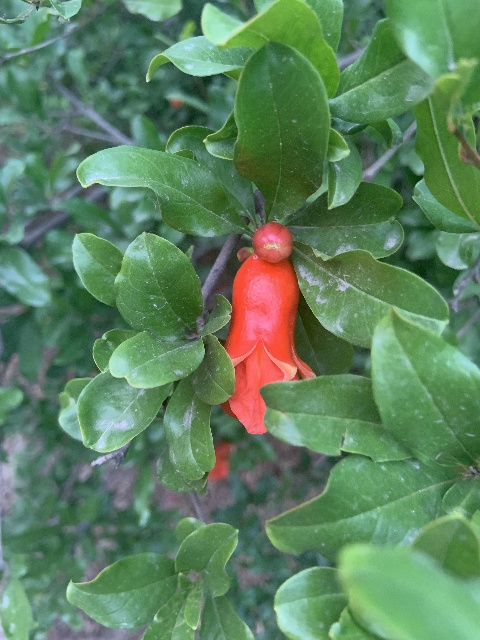bud: (252, 221, 293, 262), (236, 247, 253, 262)
flower: (220, 251, 315, 433)
